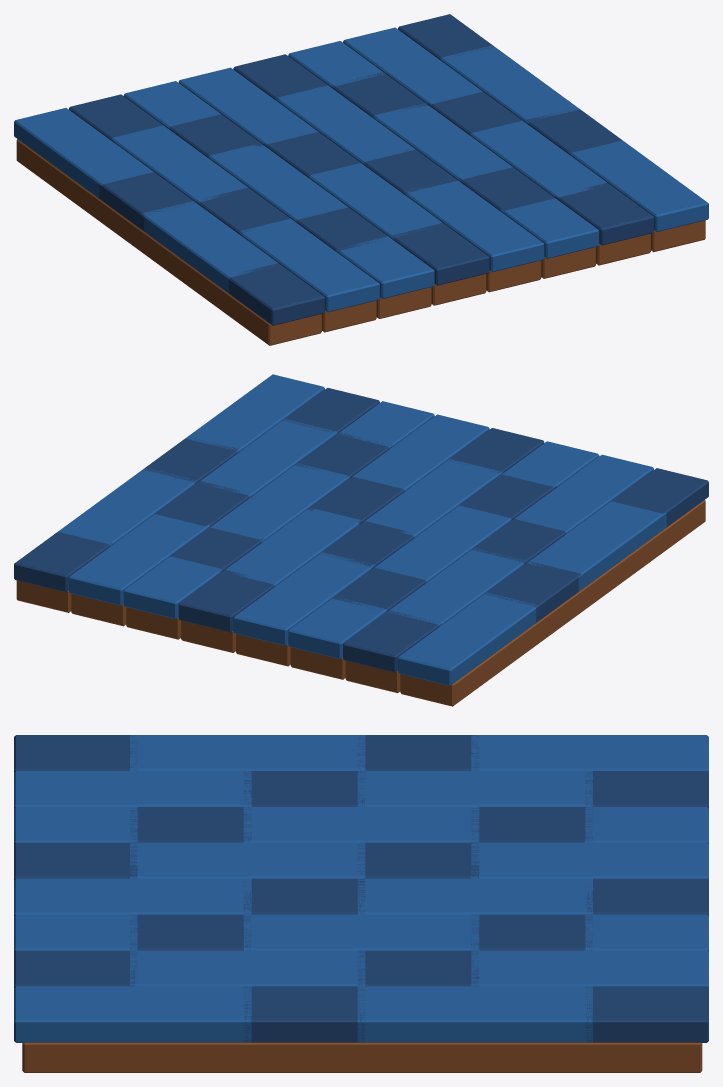
The model's file is roof_panel.glb.
3 renders of one model, top to bottom at view 1: azimuth 30°, elevation 25°; view 2: azimuth 150°, elevation 25°; view 3: azimuth 270°, elevation 25°, orthographic. The views are drawn at different scales.
Parts seen in each view (by area): view 1: roof_panel__body__azure, roof_panel__body__navy, roof_panel__body__oak; view 2: roof_panel__body__azure, roof_panel__body__navy, roof_panel__body__oak; view 3: roof_panel__body__azure, roof_panel__body__navy, roof_panel__body__oak.
Boxes of the visible parts, bbox=[...] form: roof_panel__body__azure: bbox=[14, 27, 708, 312]; roof_panel__body__navy: bbox=[69, 14, 653, 325]; roof_panel__body__oak: bbox=[16, 139, 705, 345]; roof_panel__body__azure: bbox=[58, 374, 666, 685]; roof_panel__body__navy: bbox=[14, 388, 708, 672]; roof_panel__body__oak: bbox=[16, 500, 705, 706]; roof_panel__body__azure: bbox=[14, 735, 708, 1042]; roof_panel__body__navy: bbox=[14, 735, 708, 1042]; roof_panel__body__oak: bbox=[22, 1042, 702, 1072].
Size of the model in its own units: 1.99 by 0.1725 by 2.04.
